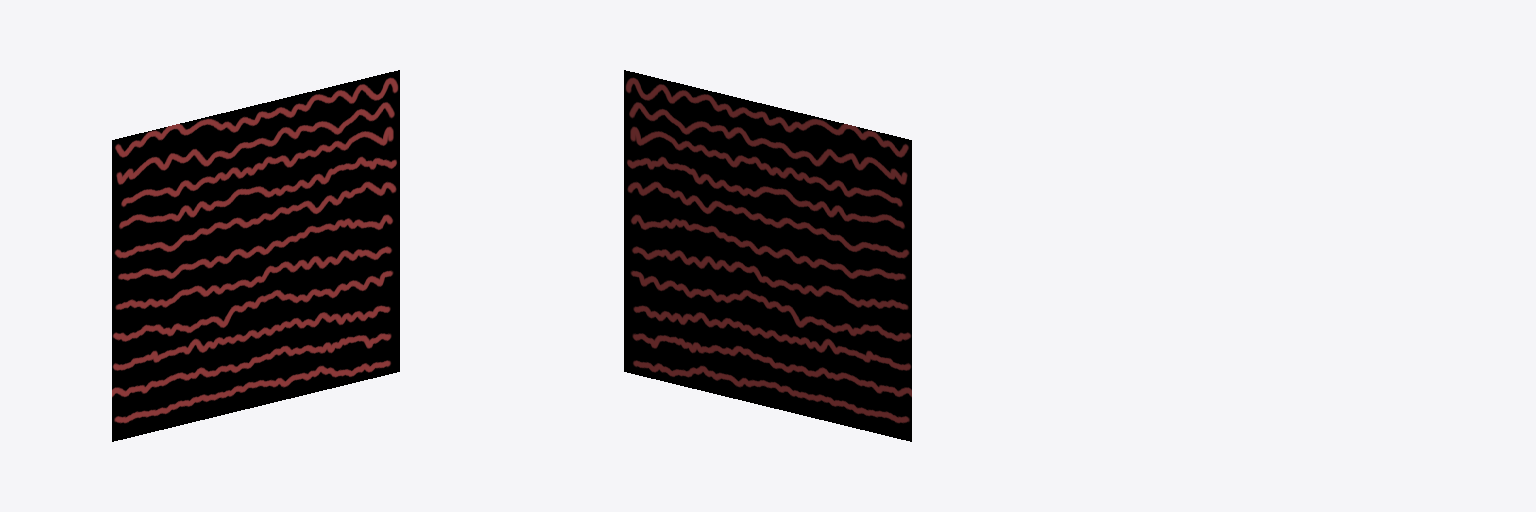
3 renders of one model, left to right at view 1: azimuth 30°, elevation 25°; view 2: azimuth 150°, elevation 25°; view 3: azimuth 270°, elevation 25°, orthographic.
Parts seen in each view (by area): view 1: Plane; view 2: Plane; view 3: none.
Part boxes in pixels (left/top/right/bottom): Plane: left=112, top=70, right=399, bottom=441; Plane: left=624, top=70, right=911, bottom=441.
Size of the model in its own units: 80 by 80 by 0.
Materials: 1 (1 with a texture image).